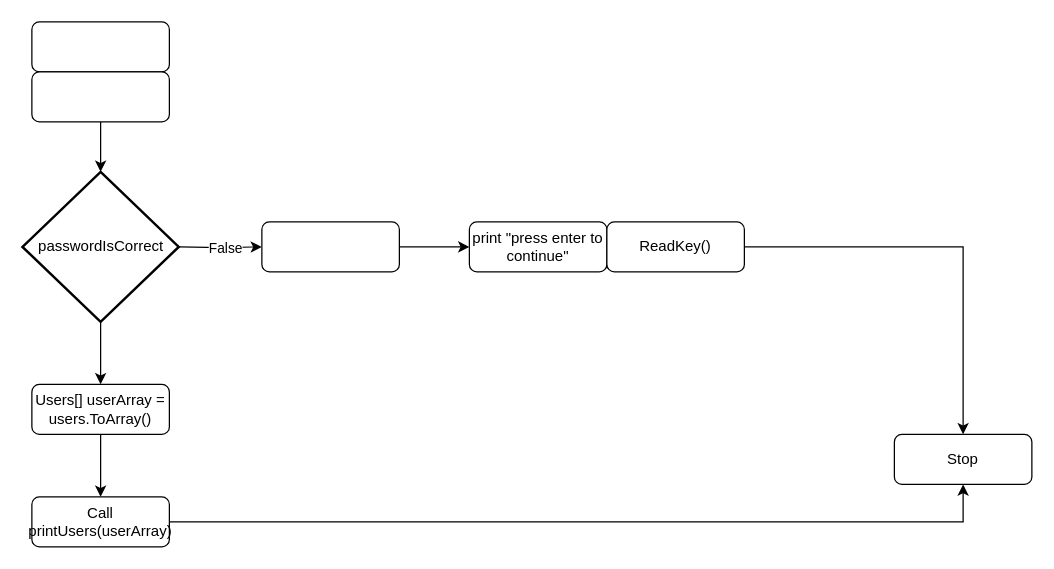
This 1054x569 diagram has some shape labels left out. Each missing label, with the centre of its shape:
print "Not authorized": (x=330, y=246)
read adminPassword: (x=100, y=96)
showAllUsers(): (x=100, y=46)
